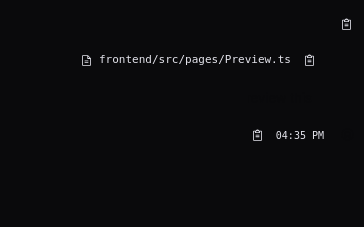
it: ChatThread message polish › copies attached file content from the transcript preview panel
This screenshot has width=364, height=227.
Click the button with aria-label "Preview attached file Preview.ts".
click(195, 60)  # box x1=99 y1=52 x2=291 y2=68
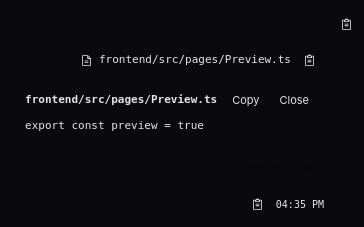
Expected: the element named "Attached file preview Preview.ts" shows "export const preview = true", x1=25 y1=118 x2=204 y2=132
Click the button with aria-label "Copy preview file Preview.ts".
click(246, 100)  # box x1=225 y1=90 x2=266 y2=110
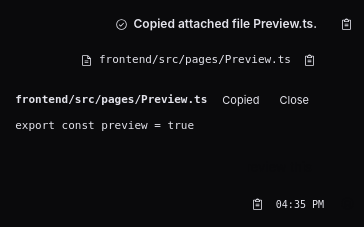
Expected: the button with aria-label "Copied preview file Preview.ts" is shown, x1=215 y1=90 x2=266 y2=110
